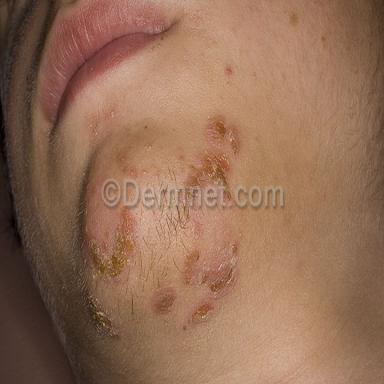Impetigo: (89, 208, 135, 277), (183, 244, 237, 293), (187, 147, 229, 187), (85, 293, 116, 337), (205, 118, 239, 156), (151, 287, 175, 313), (190, 303, 213, 326)
